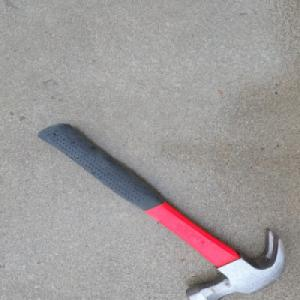Hammer: (35, 121, 284, 284)
